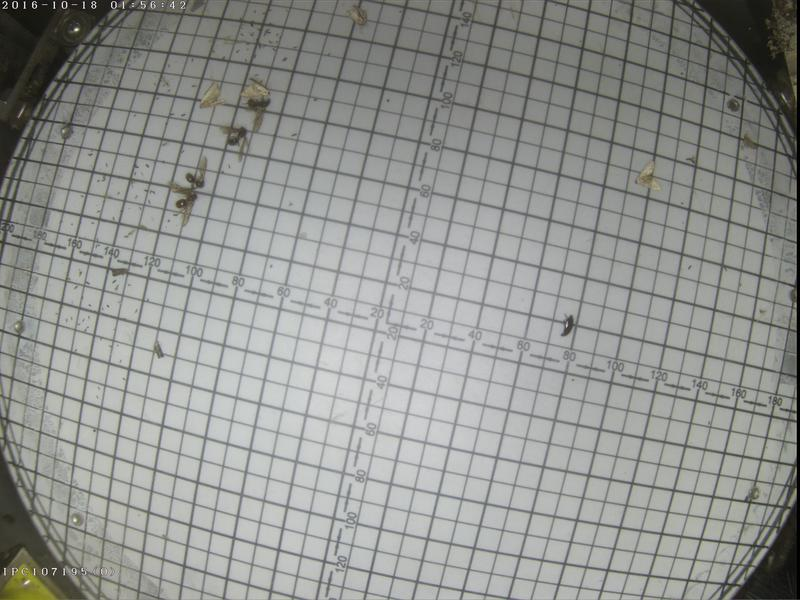Stem borer: (198, 80, 224, 108)
